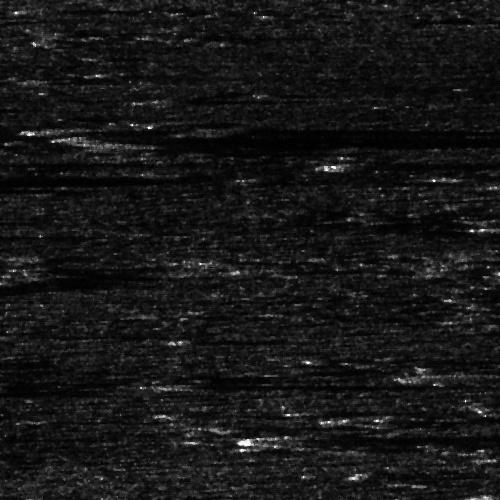object: (51, 130, 144, 151), (361, 368, 500, 381), (437, 258, 500, 275), (283, 158, 346, 169), (0, 125, 68, 134), (191, 125, 254, 134), (0, 330, 47, 339), (121, 96, 194, 101), (246, 435, 319, 440), (153, 382, 194, 387), (287, 402, 298, 417), (478, 493, 500, 496), (174, 337, 185, 342)
shadow: (97, 130, 500, 151), (22, 125, 500, 134), (293, 402, 500, 417), (0, 168, 134, 187), (222, 125, 500, 134), (314, 158, 500, 169), (0, 153, 147, 166), (174, 382, 424, 387), (283, 435, 500, 440), (6, 330, 123, 339), (434, 368, 500, 381), (158, 96, 291, 101), (180, 337, 303, 342), (0, 129, 37, 138), (0, 229, 20, 238)
